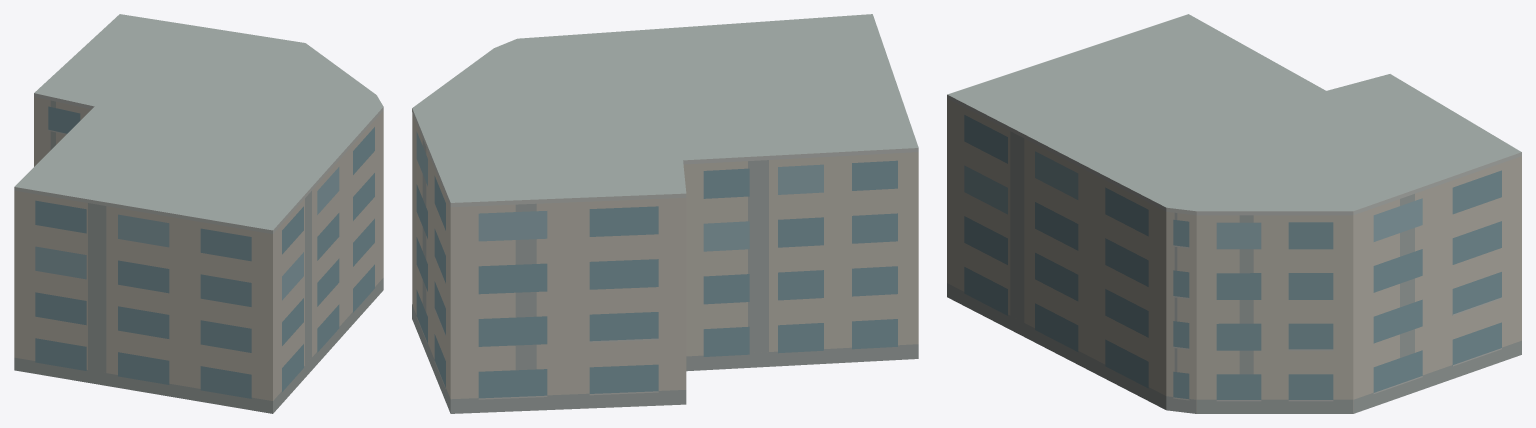
Rendered from survey-upis-32774210.glb.
3 views of the same model, side by side, from view 1: azimuth 30°, elevation 25°; view 2: azimuth 150°, elevation 25°; view 3: azimuth 270°, elevation 25° (orthographic). The views are drawn at different scales.
Visible parts, largest first — view 1: survey-upis-32774210.tmp; view 2: survey-upis-32774210.tmp; view 3: survey-upis-32774210.tmp.
Part boxes in pixels (box(x1,y1,x2,y2)): survey-upis-32774210.tmp: box(14, 14, 383, 413); survey-upis-32774210.tmp: box(412, 14, 918, 413); survey-upis-32774210.tmp: box(947, 14, 1521, 413).
Bounding box in the file's own units: 25.49 × 12.2 × 31.37.
